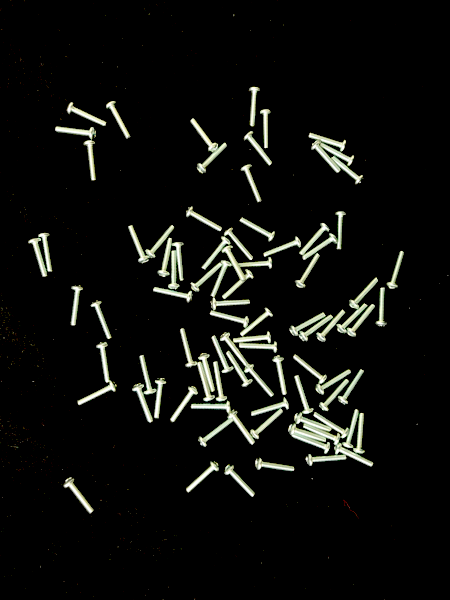longscrew: (61, 476, 97, 515), (220, 332, 253, 370), (89, 298, 116, 343), (196, 141, 230, 176), (186, 460, 221, 494), (171, 384, 200, 425), (224, 464, 257, 500), (198, 417, 236, 448), (66, 101, 109, 128), (250, 408, 285, 441), (318, 378, 351, 413), (316, 308, 348, 344), (239, 306, 275, 338), (293, 353, 329, 385), (243, 130, 274, 167), (76, 380, 118, 407), (338, 367, 367, 406), (221, 269, 255, 302), (105, 101, 133, 141), (223, 227, 255, 262), (310, 140, 342, 175), (299, 222, 331, 257), (330, 156, 366, 187), (302, 232, 339, 262), (228, 409, 257, 447), (239, 216, 278, 244), (336, 302, 369, 335), (349, 276, 381, 310), (245, 364, 276, 399), (184, 205, 224, 232), (189, 117, 219, 153), (312, 411, 349, 440), (334, 443, 375, 469), (295, 252, 323, 290), (226, 351, 254, 389), (145, 224, 175, 259), (201, 236, 231, 271), (347, 303, 377, 338), (299, 314, 335, 343), (131, 383, 155, 426), (315, 368, 353, 395), (190, 262, 223, 293), (211, 334, 235, 376), (240, 164, 265, 204), (319, 141, 357, 167), (289, 311, 327, 337), (127, 224, 151, 265), (293, 374, 316, 415), (222, 246, 247, 283), (290, 433, 332, 455), (211, 259, 234, 299), (28, 237, 50, 278), (308, 131, 349, 153), (303, 424, 342, 447), (196, 361, 217, 403), (287, 423, 329, 444), (262, 236, 302, 258), (386, 250, 408, 290), (137, 355, 158, 396), (341, 408, 361, 450), (294, 412, 334, 433), (197, 353, 217, 394), (208, 310, 251, 329), (271, 354, 290, 397), (95, 340, 113, 385), (250, 397, 290, 417), (180, 327, 199, 369), (153, 286, 194, 305), (37, 232, 55, 274), (81, 140, 99, 182), (254, 456, 296, 474), (157, 236, 174, 279), (55, 125, 99, 141), (69, 283, 84, 329), (213, 361, 229, 403), (248, 85, 263, 128), (190, 399, 233, 414), (305, 453, 348, 468), (171, 241, 186, 283), (239, 340, 281, 355), (154, 377, 168, 421), (260, 108, 274, 150), (232, 331, 274, 345), (354, 412, 367, 457), (375, 287, 389, 328), (235, 257, 275, 271), (209, 297, 252, 310), (335, 210, 348, 252), (168, 250, 181, 291)
